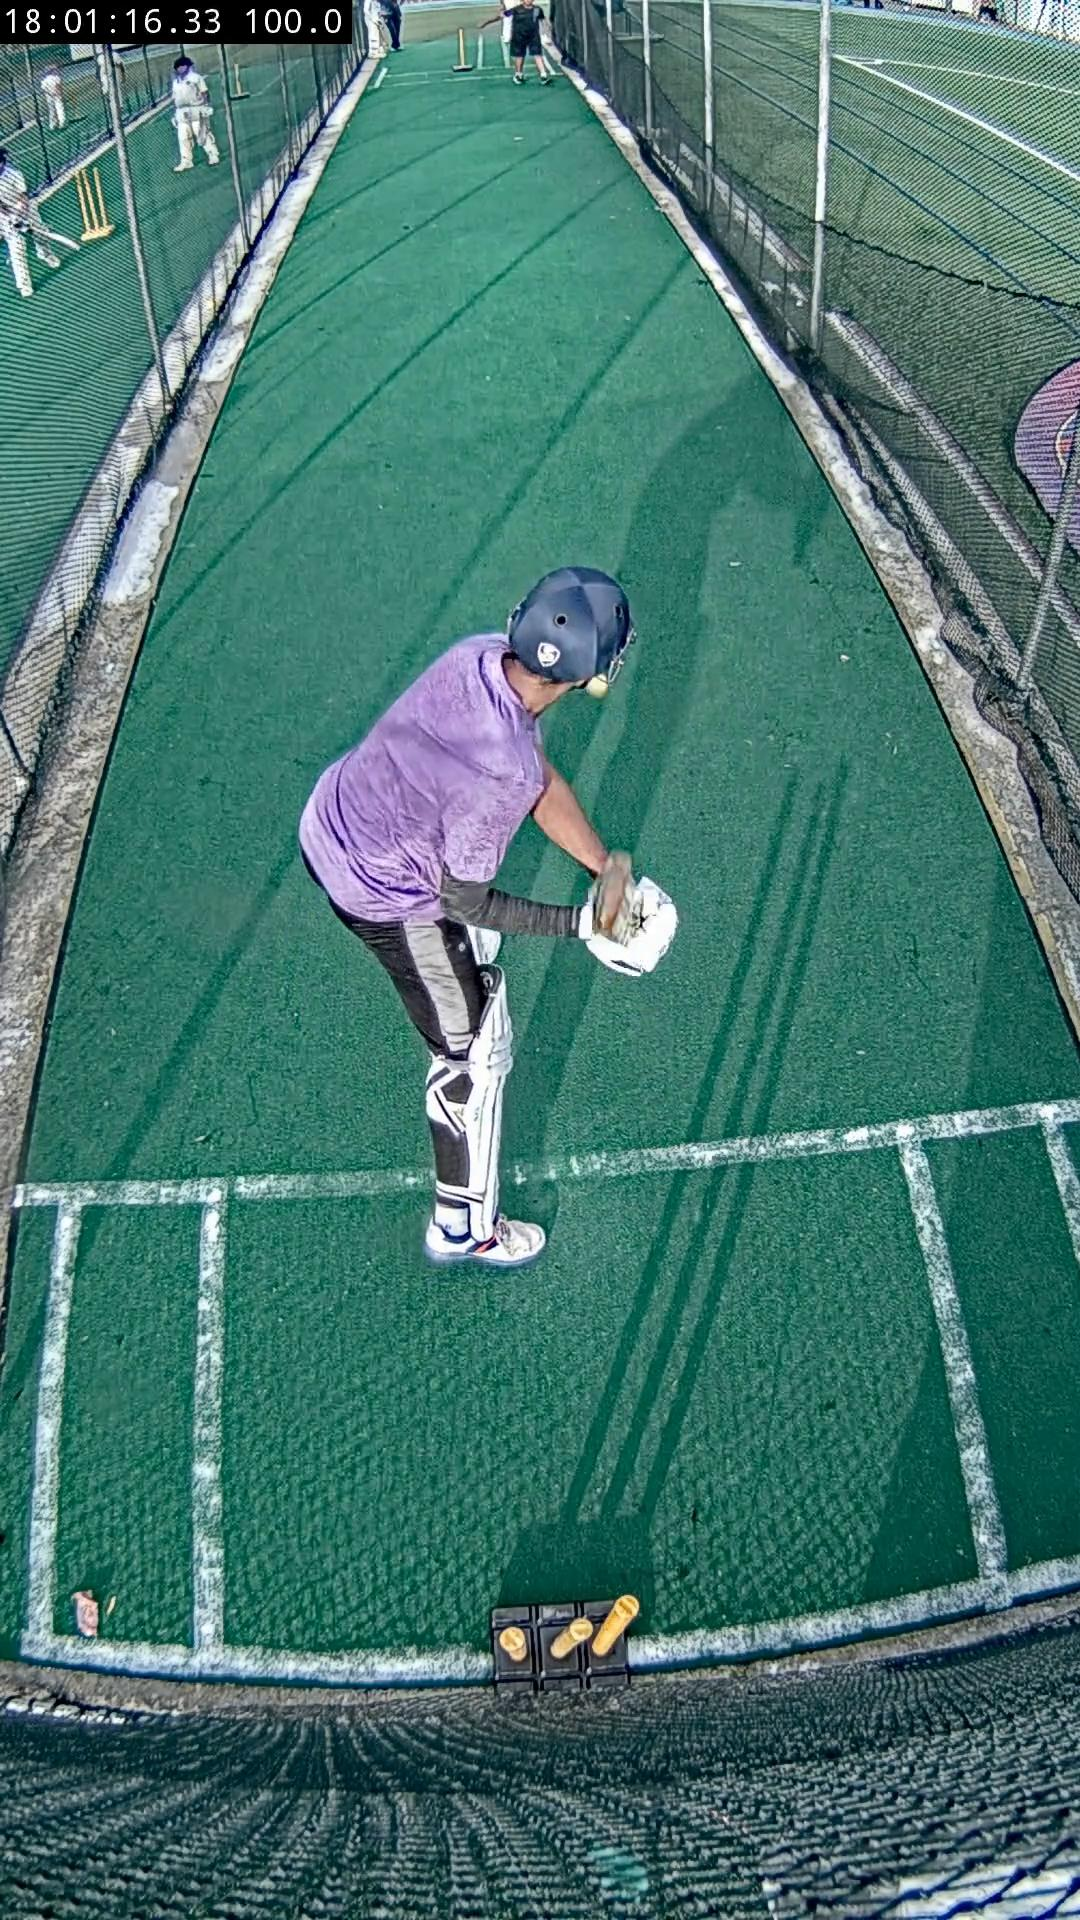ball: (585, 675, 612, 698)
bat: (592, 852, 634, 938)
gloves: (582, 877, 679, 975)
helmet: (506, 566, 634, 683)
pads: (462, 968, 514, 1241)
stumps: (492, 1594, 641, 1692)
